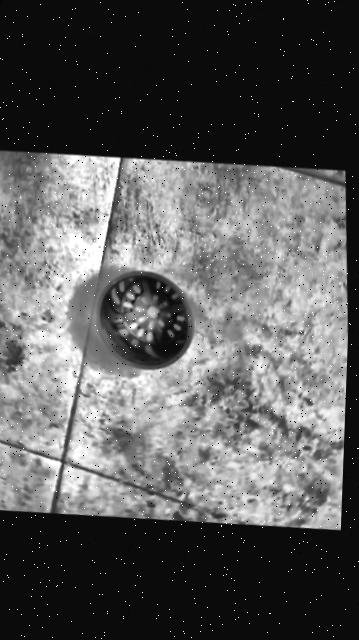pot: (90, 262, 195, 377)
